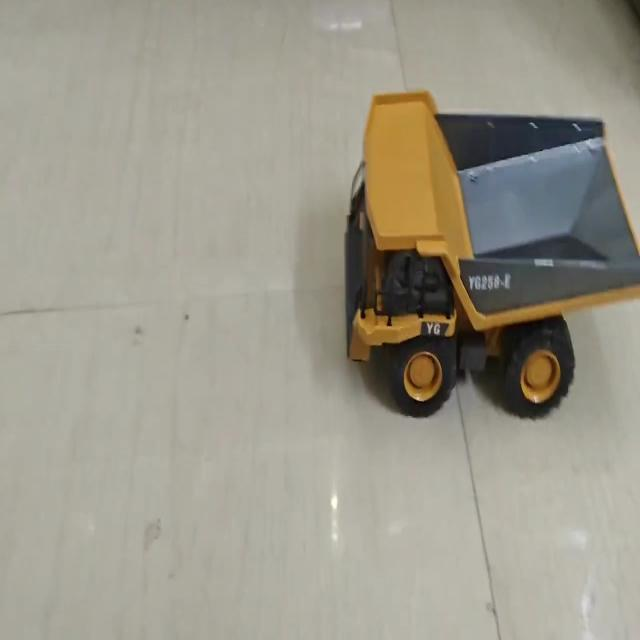dump_truck: (320, 72, 640, 421)
